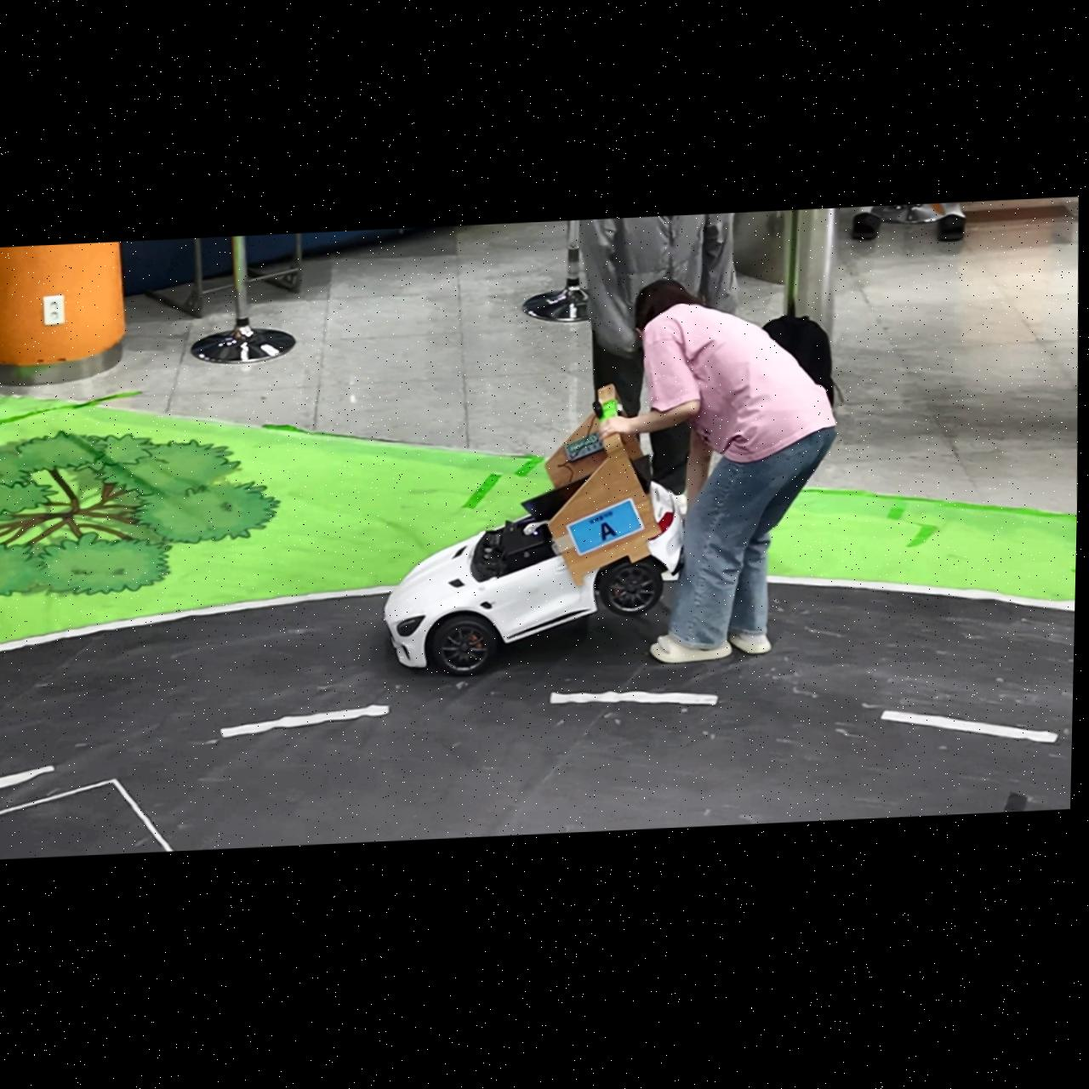broken_line: (880, 710, 1059, 743), (220, 705, 390, 738), (550, 691, 718, 705), (0, 765, 55, 789)
